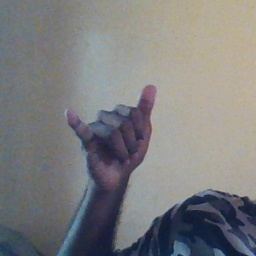J: (67, 77, 163, 187)
